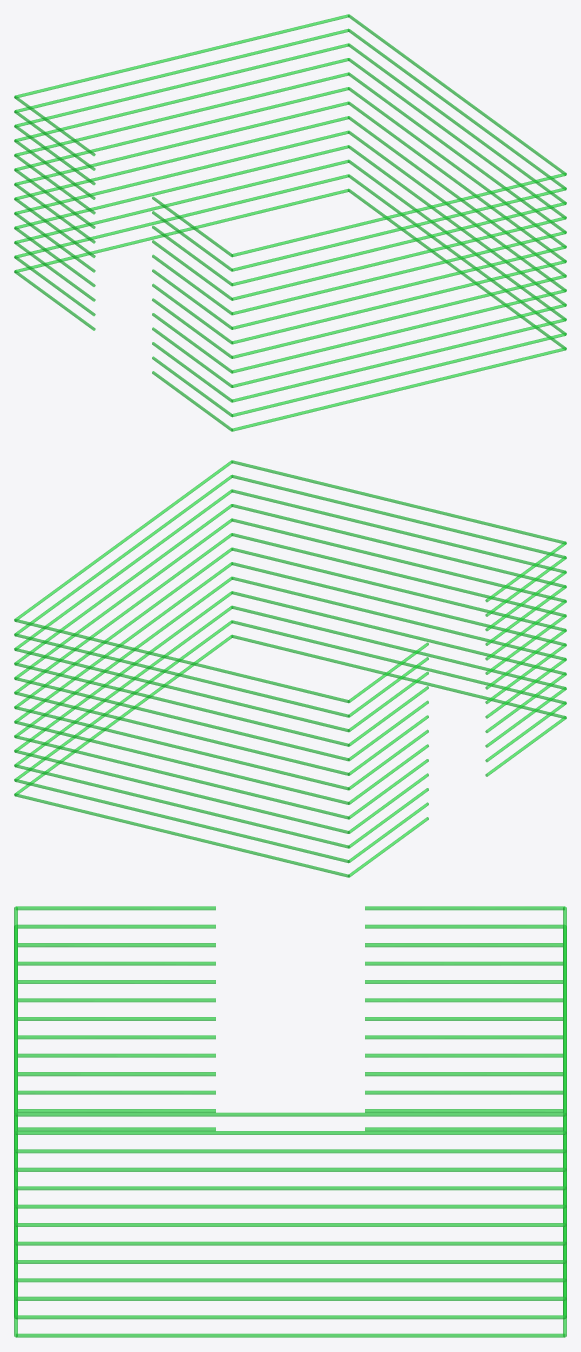
Rendered from light_curtain_laser.dae.
The picture shows the model from 3 angles, top to bottom: view 1: azimuth 30°, elevation 25°; view 2: azimuth 150°, elevation 25°; view 3: azimuth 270°, elevation 25°; orthographic projection. The views are drawn at different scales.
Visible parts, largest first — view 1: light_curtain_laser; view 2: light_curtain_laser; view 3: light_curtain_laser.
Part boxes in pixels (x1,y1,x2,y2): light_curtain_laser: (14, 14, 566, 431); light_curtain_laser: (14, 460, 566, 877); light_curtain_laser: (14, 906, 566, 1337).
Size of the model in its own units: 3.63 by 4.08 by 1.83.
